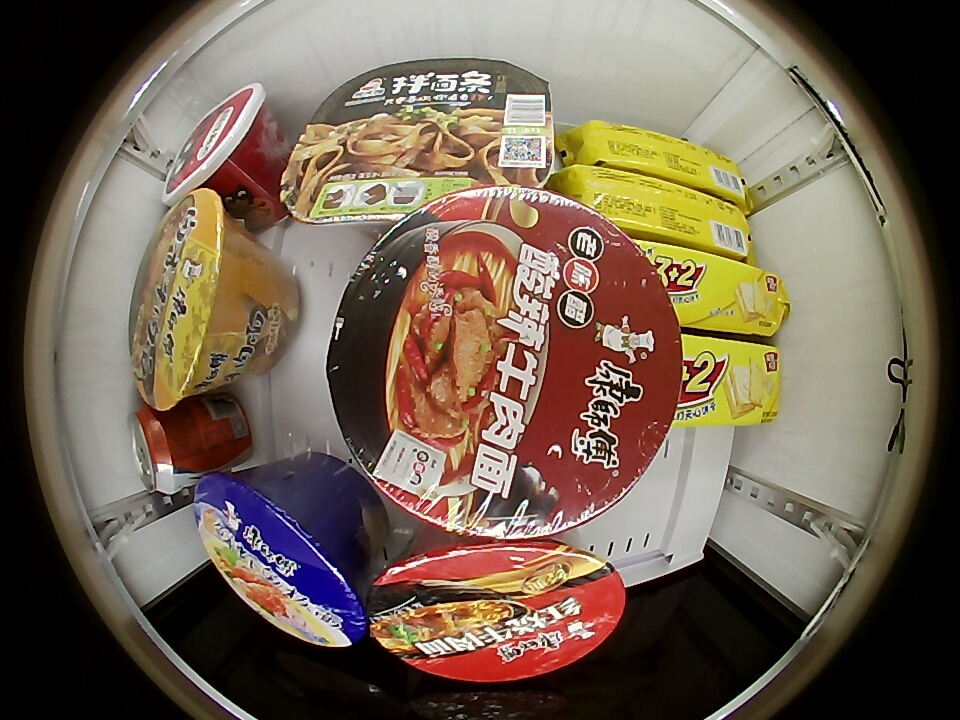3+2-2: (564, 168, 752, 262), (573, 120, 746, 199), (657, 246, 789, 336), (684, 336, 782, 426)
gudasao: (279, 60, 561, 224)
hongshaoniurou: (365, 538, 626, 682)
jianlibao: (130, 407, 185, 495)
luxiangniurou: (130, 190, 257, 412)
niudufen: (163, 84, 274, 205)
suanlaniurou: (326, 187, 683, 539)
xianxiayuban: (194, 473, 369, 648)
